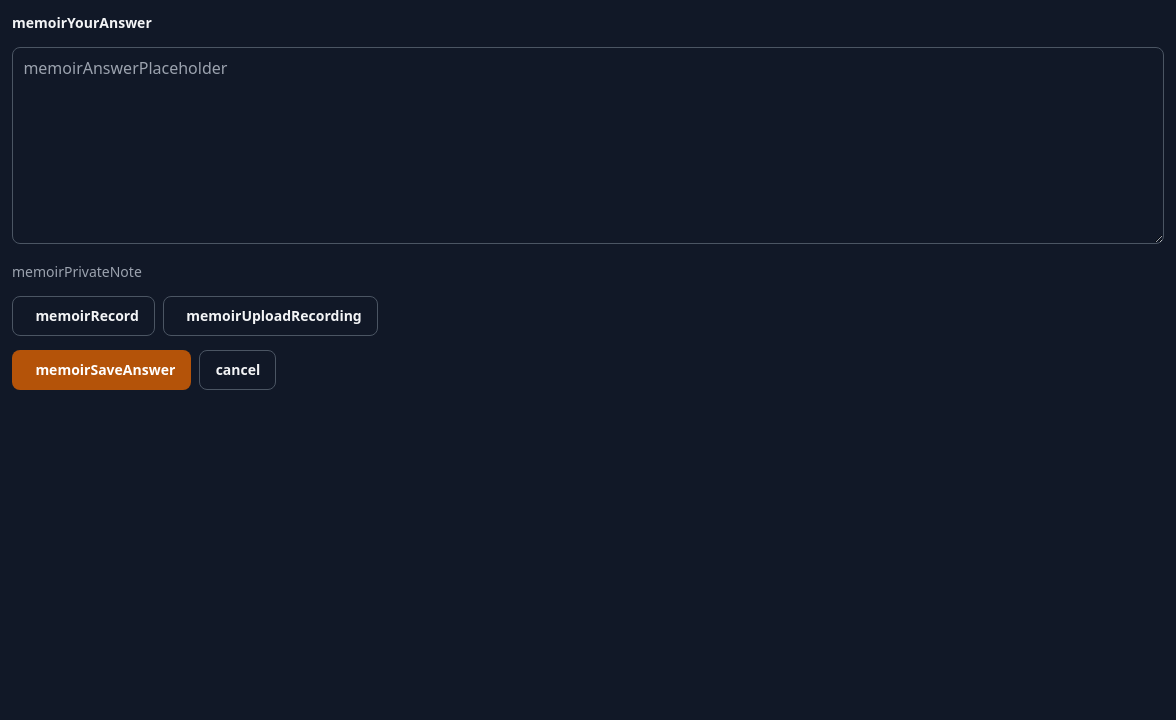
Test case: MemoirAnswerForm › stops recording on its own at the length limit
This screenshot has width=1176, height=720.
Step 1. Click the button "memoirRecord" → {"x": 84, "y": 316}, box [12,296,155,336]
Wait 900000 ms
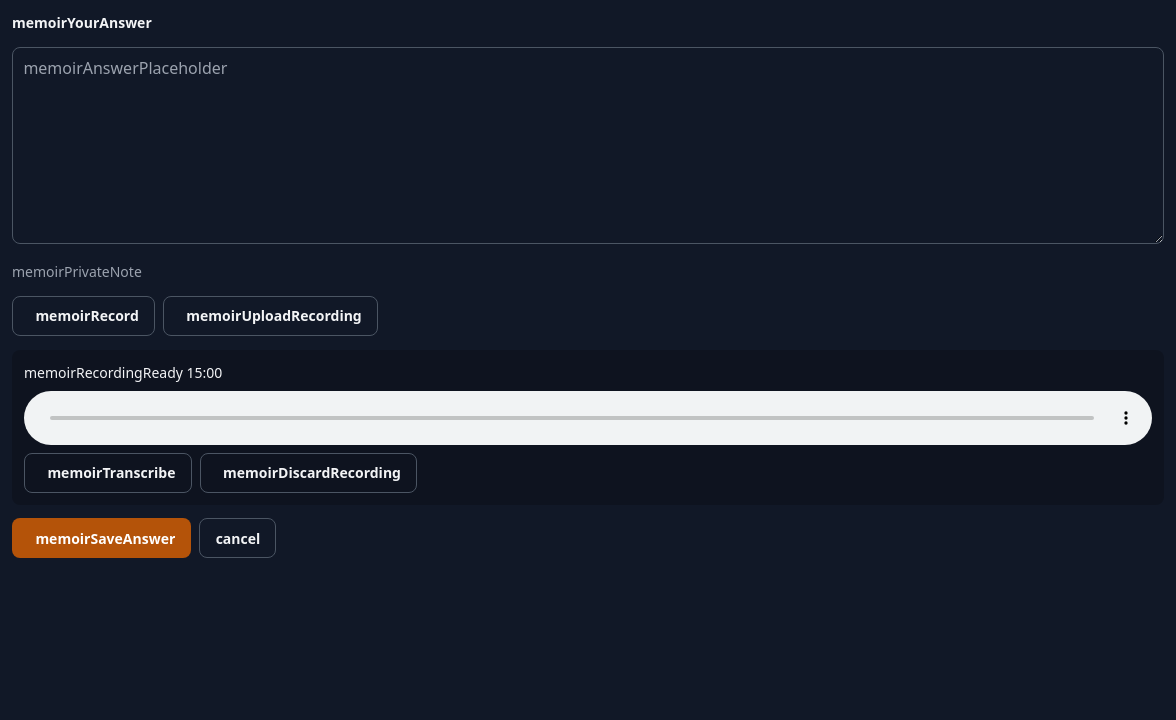
Now the text "memoirRecordingReady 15:00" is shown, box [24,362,222,382]
